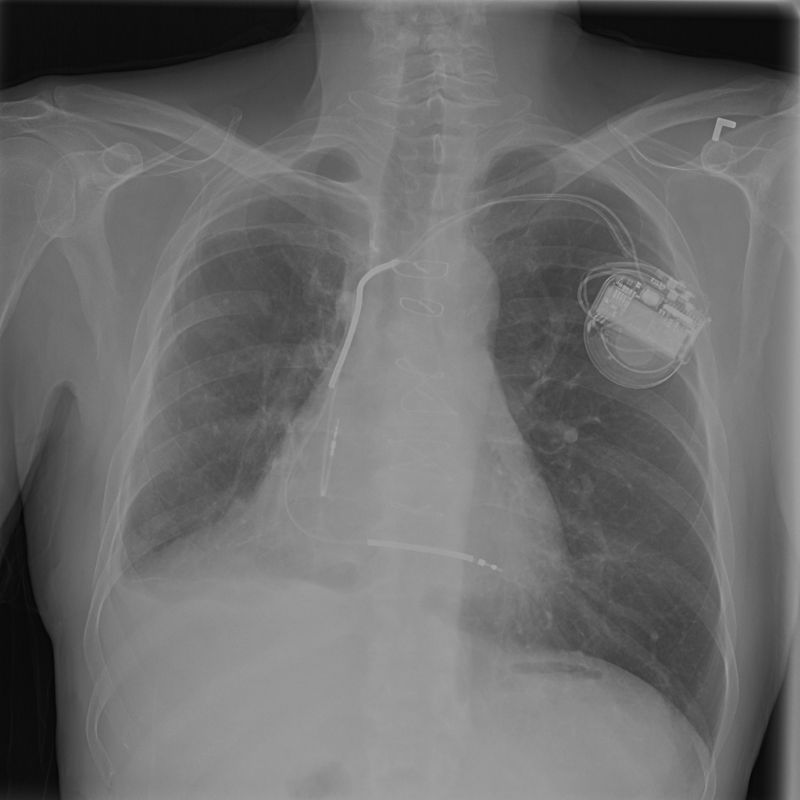PLEURAL EFFUSION: (101, 549, 243, 659)
